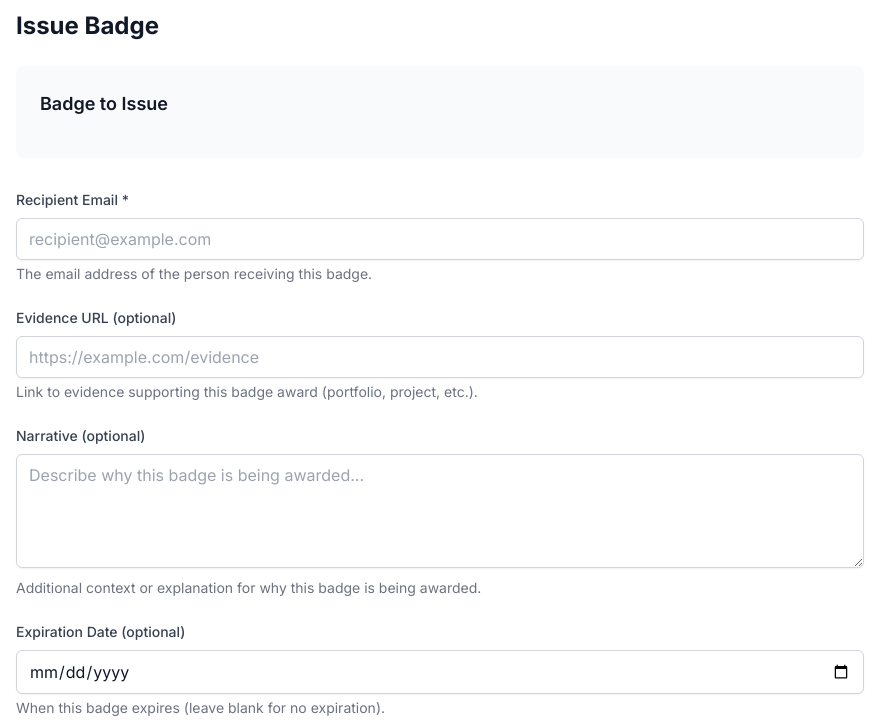
Test: Badge Issuance Validation › should show validation error for invalid email with aria-describedby
Type "invalid-email" into the field with id "recipient-email".
click(440, 239); type("invalid-email")  # box top-left (16, 218), bottom-right (864, 260)
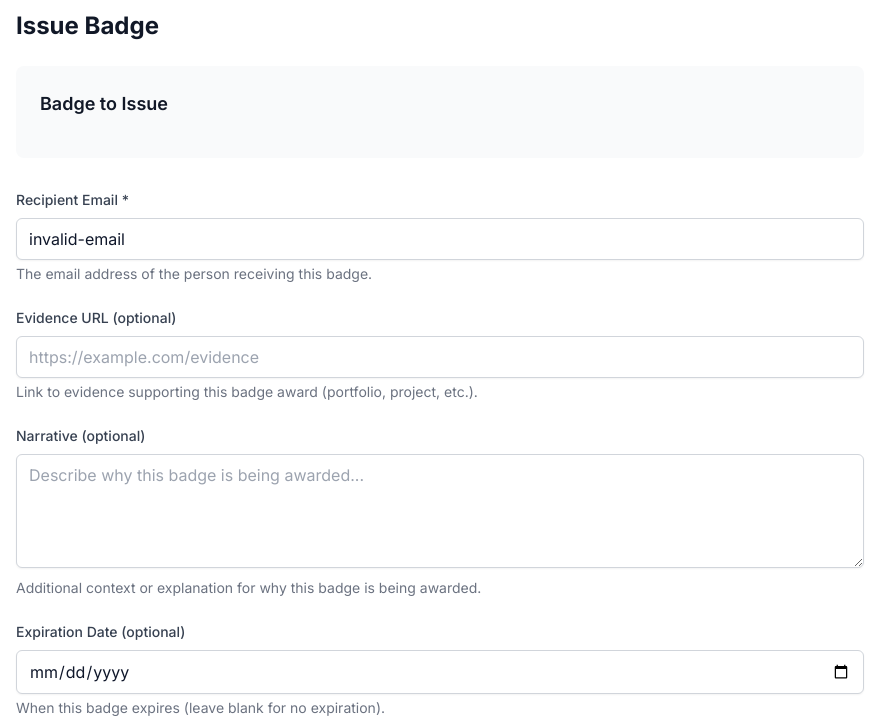
Leave the field with id "recipient-email", box top-left (16, 218), bottom-right (864, 260)
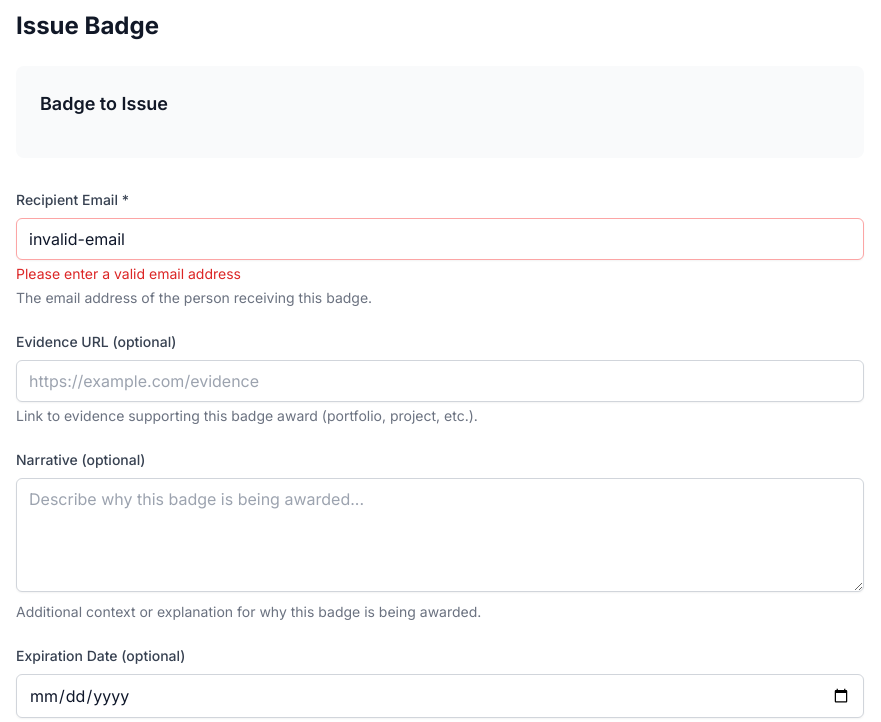
Now the text with id "recipient-email-error" reads "Please enter a valid email address", box top-left (16, 265), bottom-right (241, 282)
